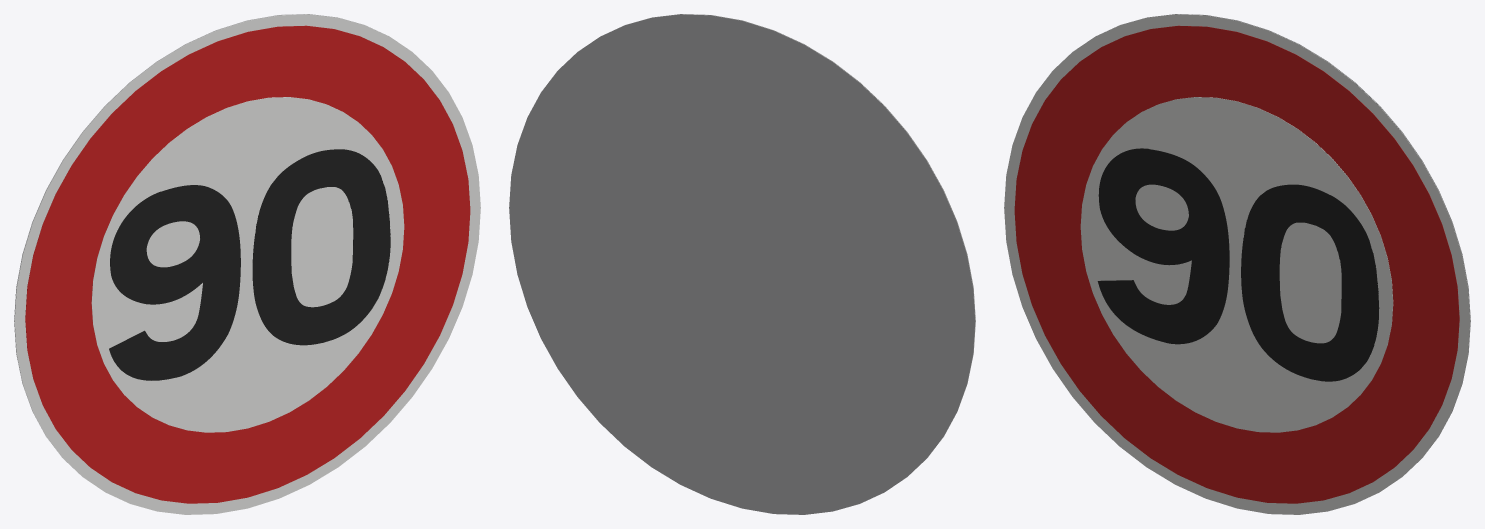
The picture shows the model from 3 angles, left to right: view 1: azimuth 30°, elevation 25°; view 2: azimuth 150°, elevation 25°; view 3: azimuth 330°, elevation 25°; orthographic projection.
Visible parts, largest first — view 1: B14-90_p01, B14-90_p02, B14-90_p00, B14-90_p03, B14-90_p04, B14-90_dos; view 2: B14-90_dos, B14-90_p00; view 3: B14-90_p01, B14-90_p02, B14-90_p00, B14-90_p03, B14-90_p04, B14-90_dos.
Part boxes in pixels (x1,y1,x2,y2): B14-90_p01: (25,25,470,503); B14-90_p02: (91,97,404,432); B14-90_p00: (14,14,480,514); B14-90_p03: (109,185,240,380); B14-90_p04: (252,149,390,345); B14-90_dos: (14,14,385,473); B14-90_dos: (509,14,975,514); B14-90_p00: (604,14,975,473); B14-90_p01: (1014,25,1459,503); B14-90_p02: (1080,97,1393,432); B14-90_p00: (1004,14,1470,514); B14-90_p03: (1097,148,1229,344); B14-90_p04: (1241,184,1379,381); B14-90_dos: (1099,14,1470,473).
Bounding box in the file's own units: 0.85 × 0.8498 × 0.0035.
